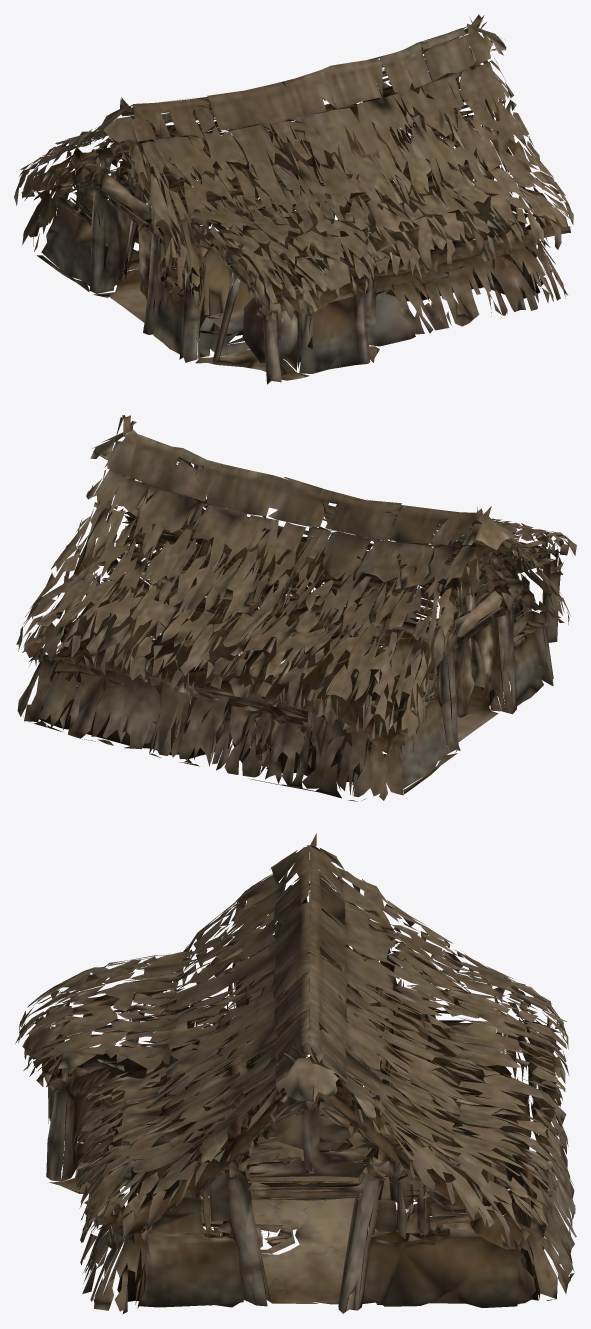
The model's file is barracks_far.glb.
3 views of the same model, one above another, from view 1: azimuth 30°, elevation 25°; view 2: azimuth 150°, elevation 25°; view 3: azimuth 270°, elevation 25° (orthographic). The views are drawn at different scales.
Visible parts, largest first — view 1: model; view 2: model; view 3: model.
Boxes of the visible parts, x1,y1,x2,y2 form: model: [14, 14, 573, 384]; model: [16, 415, 576, 801]; model: [15, 833, 576, 1313].
Size of the model in its own units: 0.9959 by 0.5267 by 0.9791.
Materials: 1 (1 with a texture image).
